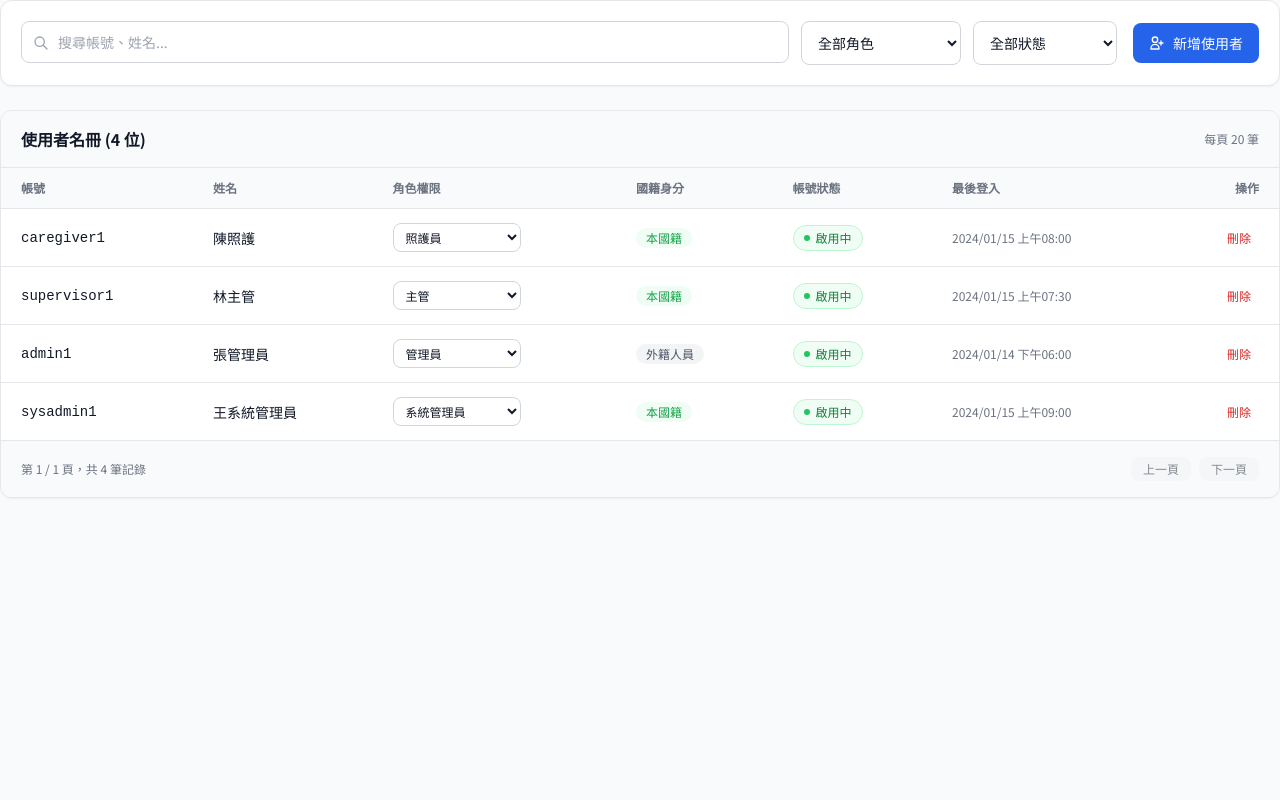
Test: User Management View (Features F6, F7, F8, F21) › handles duplicate username error from backend
Click the button "新增使用者" at (1196, 43), box x1=1133 y1=23 x2=1259 y2=63
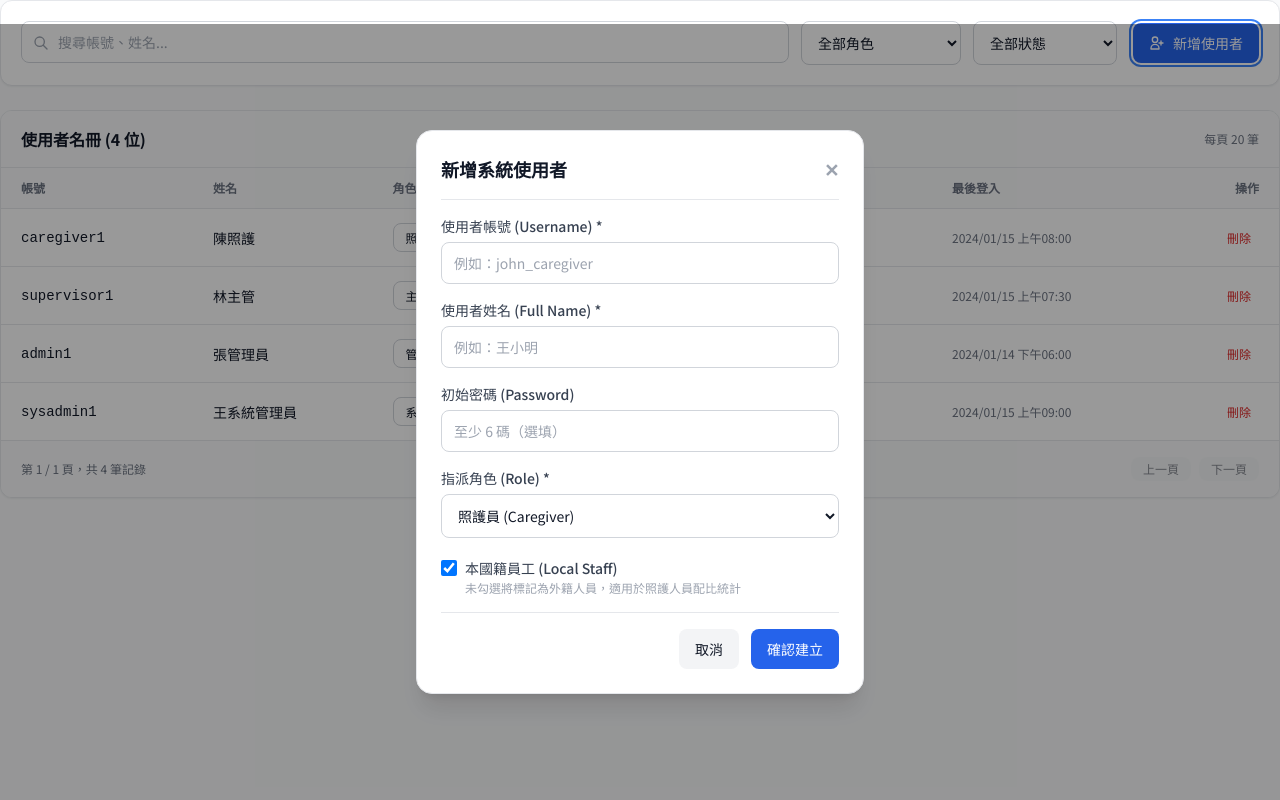
Type "caregiver1" into the field named "使用者帳號" at (640, 263), box x1=441 y1=242 x2=839 y2=284
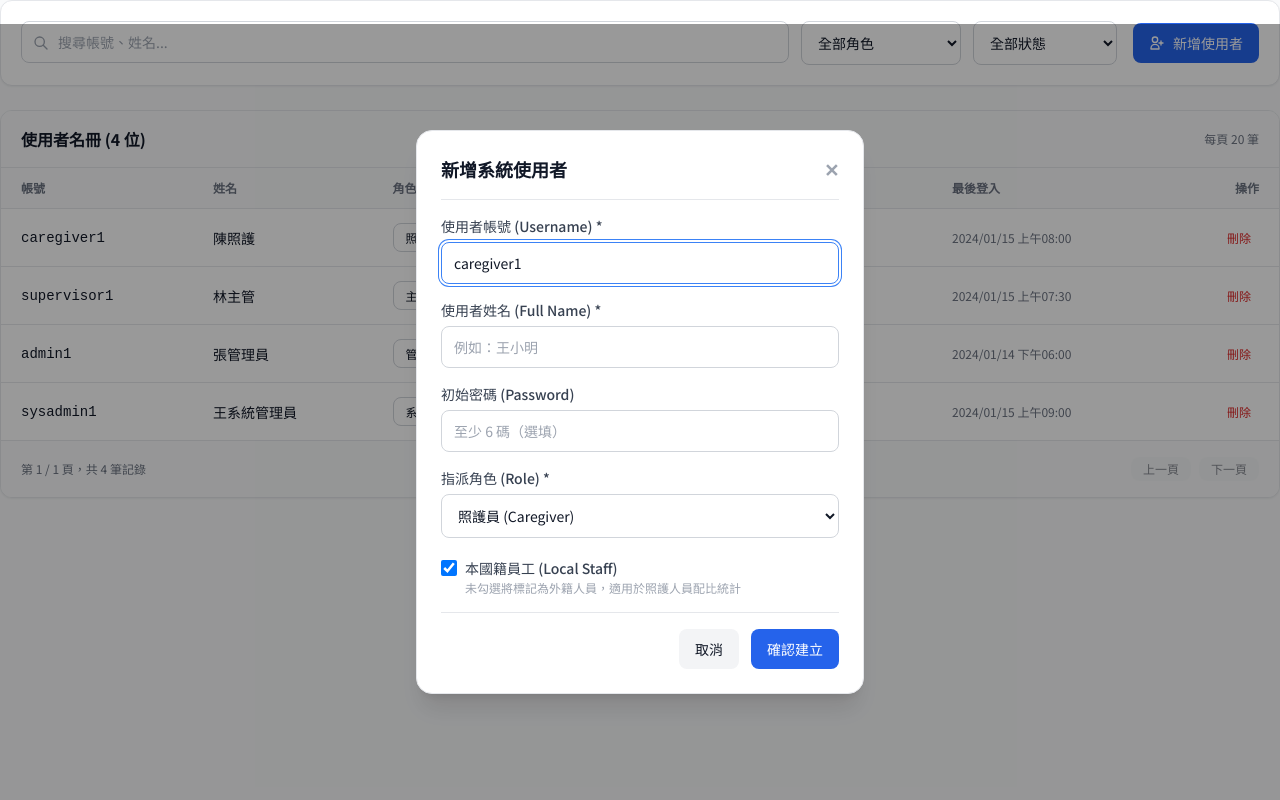
Type "陳二號" into the field named "使用者姓名" at (640, 347), box x1=441 y1=326 x2=839 y2=368
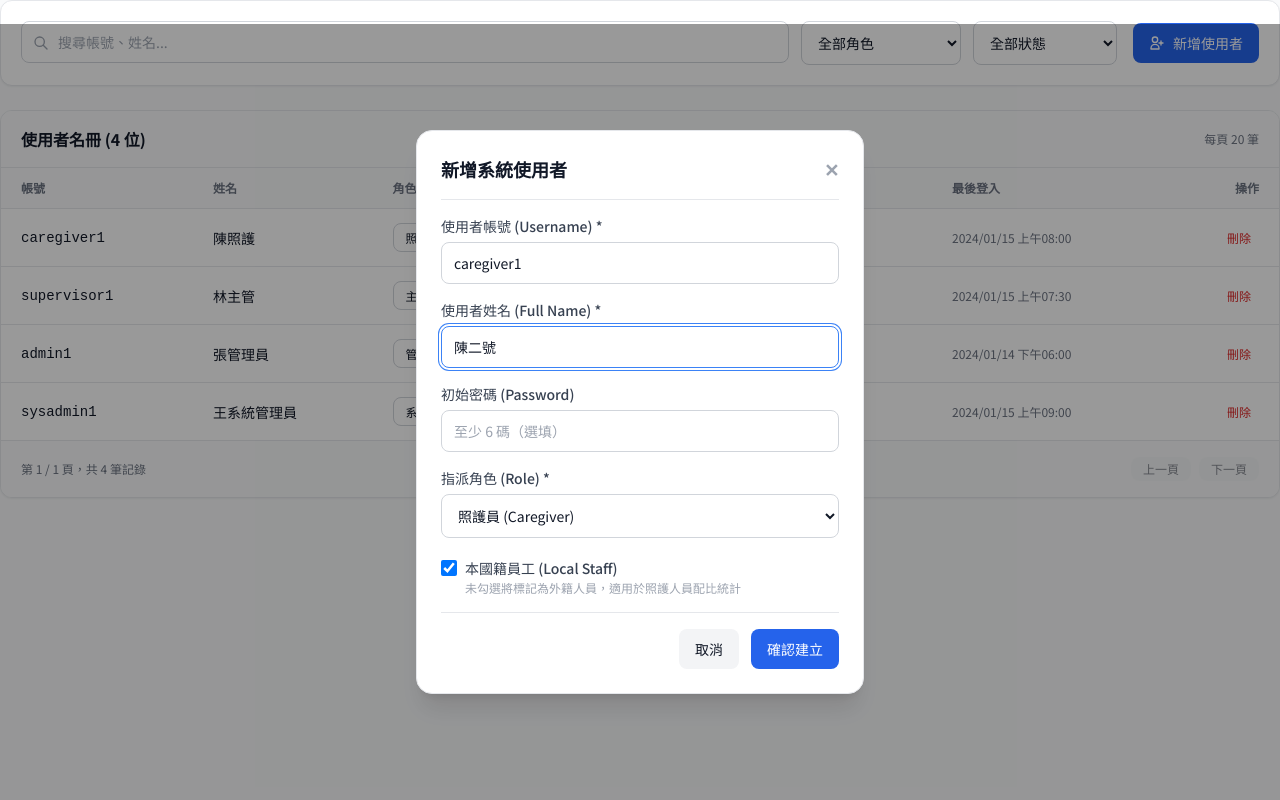
Click the button "確認建立" at (795, 649), box x1=751 y1=629 x2=839 y2=669
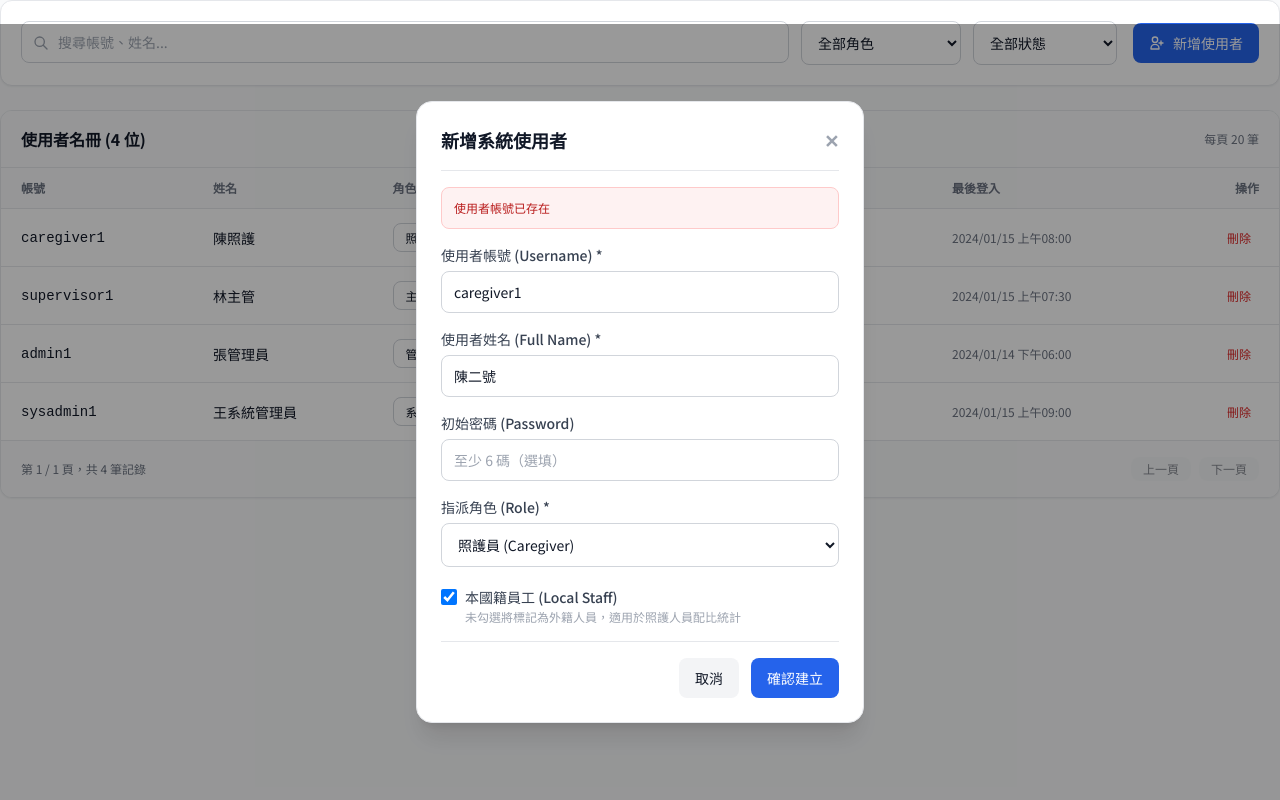
Now the text "使用者帳號已存在" is shown, box x1=441 y1=187 x2=839 y2=229
